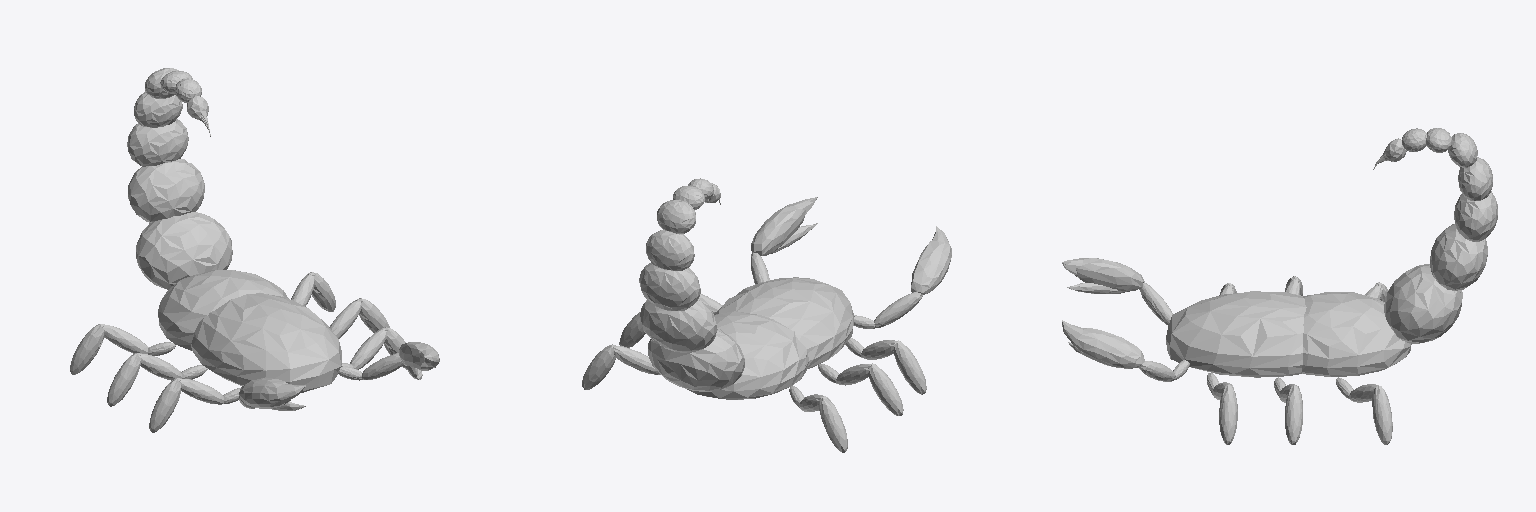
The model's file is scorpion_000036.obj.
The picture shows the model from 3 angles: view 1: azimuth 30°, elevation 25°; view 2: azimuth 150°, elevation 25°; view 3: azimuth 270°, elevation 25°; orthographic projection.
Parts seen in each view (by area): view 1: Sphere.010_Sphere.012, Sphere.002_Sphere.004, Sphere.011_Sphere.013, Sphere.003_Sphere.005, Sphere.030_Sphere.000, Sphere.004_Sphere.006, Sphere.012_Sphere.020, Sphere.014_Sphere.023, Sphere.013_Sphere.017, Sphere.000_Sphere.019, Sphere.005_Sphere.007, Sphere.016_Sphere.022 (+3 smaller); view 2: Sphere.010_Sphere.012, Sphere.011_Sphere.013, Sphere.002_Sphere.004, Sphere.030_Sphere.000, Sphere.003_Sphere.005, Sphere.004_Sphere.006, Sphere.014_Sphere.023, Sphere.005_Sphere.007, Sphere.012_Sphere.020, Sphere.028_Sphere.046, Sphere.006_Sphere.008, Sphere.018_Sphere.025 (+2 smaller); view 3: Sphere.010_Sphere.012, Sphere.011_Sphere.013, Sphere.002_Sphere.004, Sphere.030_Sphere.000, Sphere.003_Sphere.005, Sphere.004_Sphere.006, Sphere.028_Sphere.046, Sphere.005_Sphere.007, Sphere.014_Sphere.023, Sphere.012_Sphere.020, Sphere.000_Sphere.019, Sphere.006_Sphere.008 (+1 smaller).
Part boxes in pixels (x1,y1,x2,y2): Sphere.010_Sphere.012: (191, 293, 341, 392); Sphere.002_Sphere.004: (136, 212, 232, 289); Sphere.011_Sphere.013: (158, 270, 288, 350); Sphere.003_Sphere.005: (128, 159, 204, 222); Sphere.030_Sphere.000: (239, 342, 439, 408); Sphere.004_Sphere.006: (127, 119, 188, 166); Sphere.012_Sphere.020: (107, 298, 389, 406); Sphere.014_Sphere.023: (70, 272, 335, 374); Sphere.013_Sphere.017: (179, 328, 386, 404); Sphere.000_Sphere.019: (149, 327, 406, 432); Sphere.005_Sphere.007: (134, 91, 182, 127); Sphere.016_Sphere.022: (139, 299, 361, 380); Sphere.010_Sphere.012: (714, 277, 853, 368); Sphere.011_Sphere.013: (687, 311, 808, 399); Sphere.002_Sphere.004: (648, 328, 744, 391); Sphere.030_Sphere.000: (751, 197, 951, 294); Sphere.003_Sphere.005: (640, 300, 717, 352); Sphere.004_Sphere.006: (639, 263, 700, 310); Sphere.014_Sphere.023: (582, 344, 847, 452); Sphere.005_Sphere.007: (646, 230, 694, 270); Sphere.012_Sphere.020: (619, 312, 903, 415); Sphere.028_Sphere.046: (751, 252, 922, 327); Sphere.006_Sphere.008: (657, 200, 695, 233); Sphere.018_Sphere.025: (613, 346, 822, 411); Sphere.010_Sphere.012: (1166, 291, 1306, 377); Sphere.011_Sphere.013: (1302, 292, 1411, 376); Sphere.002_Sphere.004: (1384, 264, 1462, 343); Sphere.030_Sphere.000: (1062, 258, 1144, 368); Sphere.003_Sphere.005: (1430, 224, 1487, 290); Sphere.004_Sphere.006: (1454, 191, 1497, 241); Sphere.028_Sphere.046: (1138, 282, 1175, 381); Sphere.005_Sphere.007: (1458, 157, 1492, 200); Sphere.014_Sphere.023: (1372, 282, 1392, 444); Sphere.012_Sphere.020: (1285, 276, 1302, 444); Sphere.000_Sphere.019: (1219, 283, 1237, 444); Sphere.006_Sphere.008: (1448, 133, 1477, 167).
Size of the model in its own units: 0.9541 by 0.8126 by 1.27.